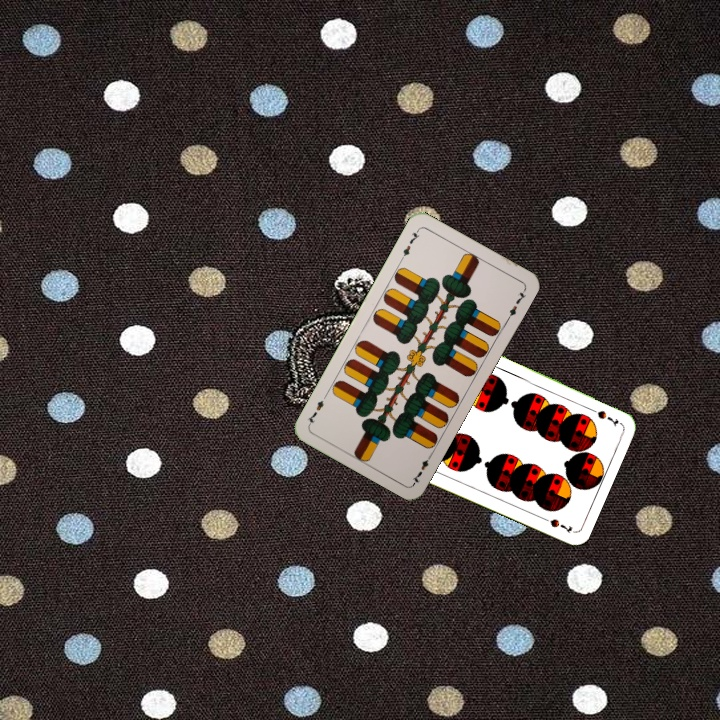E7: (408, 449, 435, 486), (397, 225, 422, 263)
S7: (583, 403, 621, 428)
